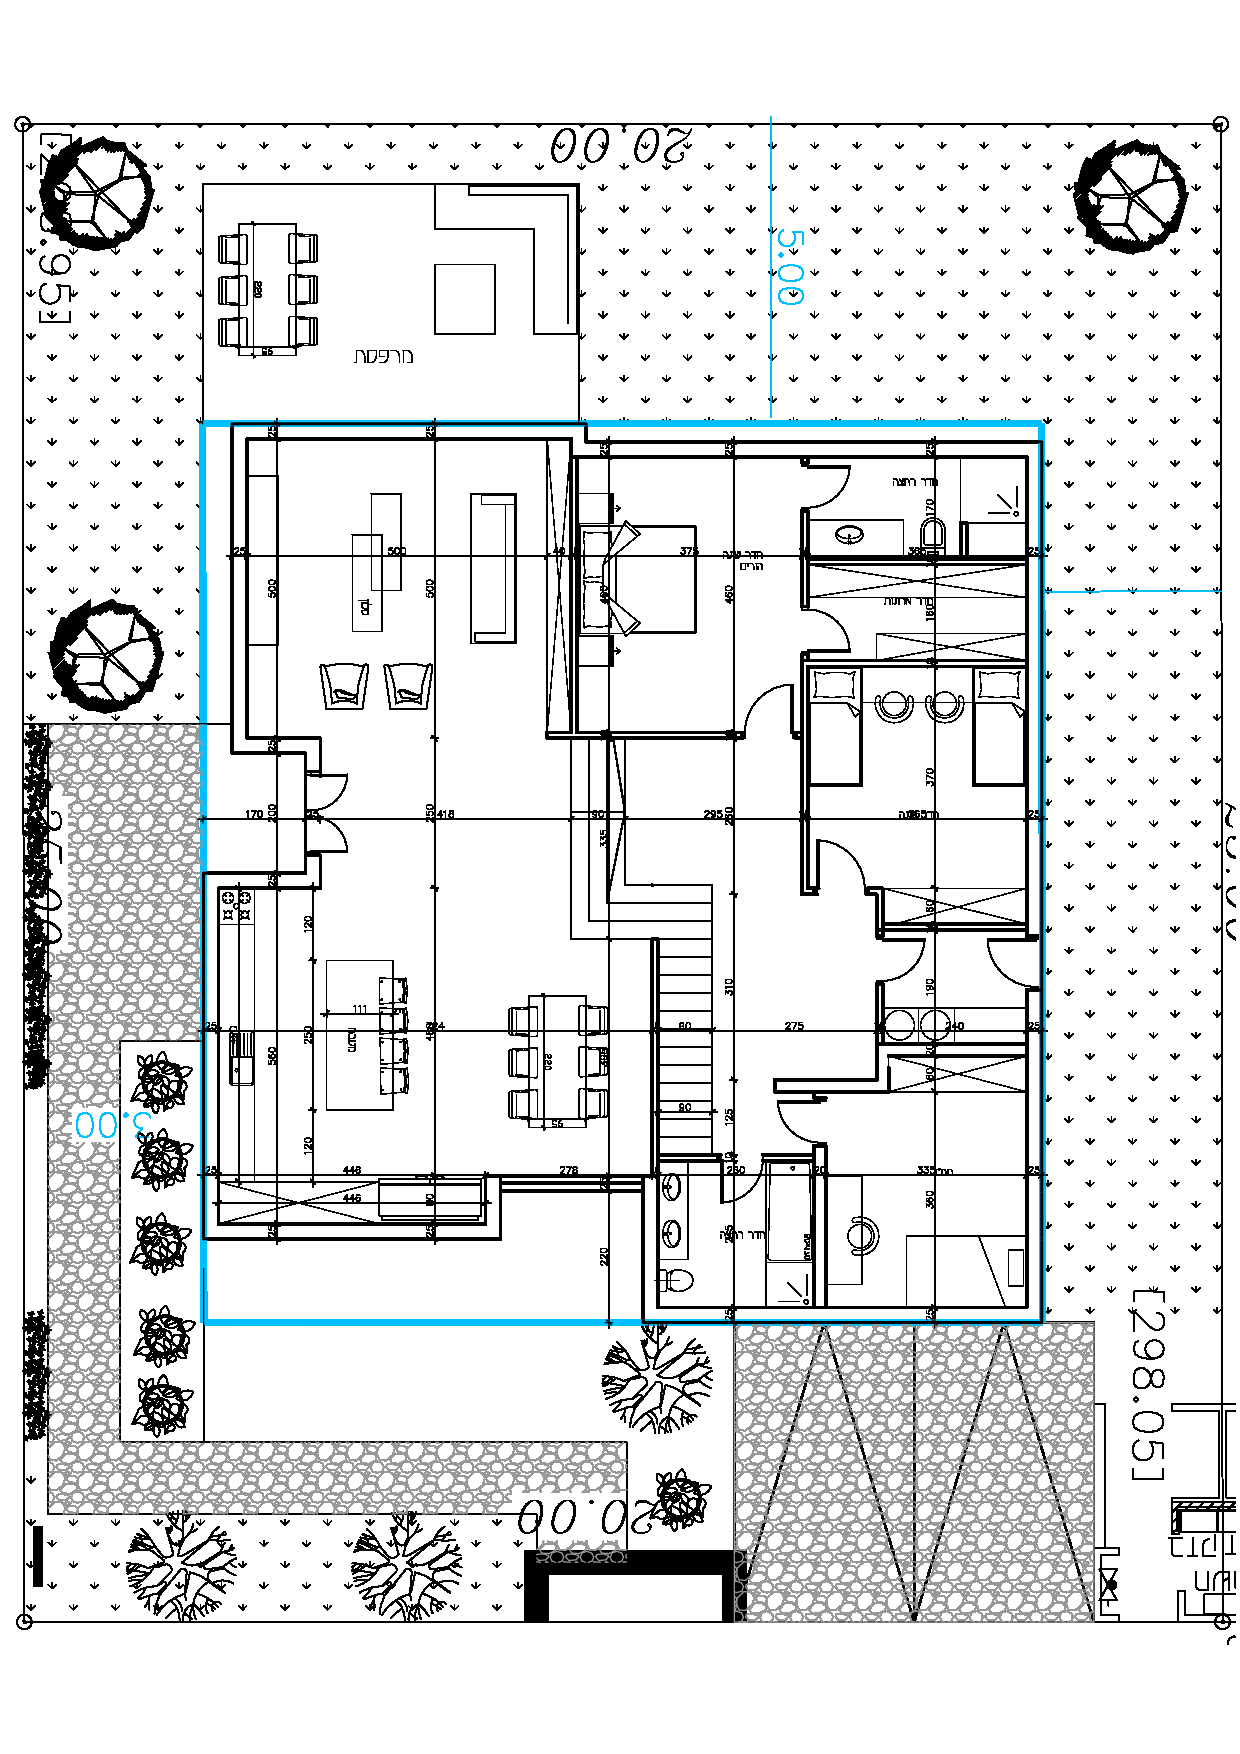door: (739, 678, 797, 723), (811, 832, 867, 878), (815, 460, 859, 513), (982, 933, 1021, 990), (813, 608, 854, 655), (313, 769, 357, 809), (772, 1095, 811, 1139), (888, 935, 926, 981), (321, 820, 358, 858)
